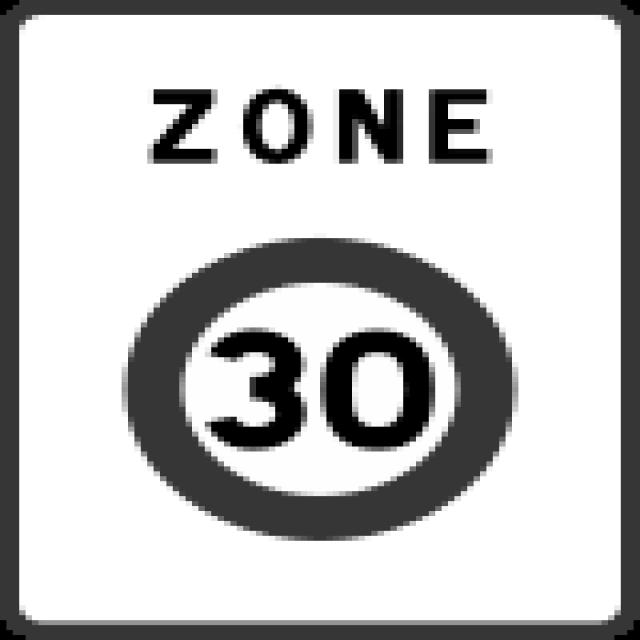speed_30: (0, 0, 640, 640), (122, 232, 520, 545)
